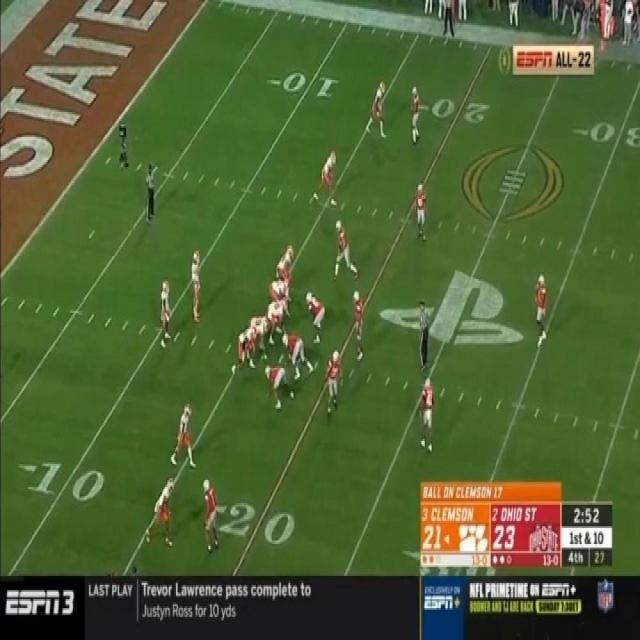center: (268, 302, 286, 332)
db: (203, 482, 221, 554), (532, 278, 552, 340), (417, 182, 430, 238), (420, 386, 430, 442)
lb: (324, 348, 338, 418), (354, 296, 369, 358)
qb: (191, 247, 201, 318)
